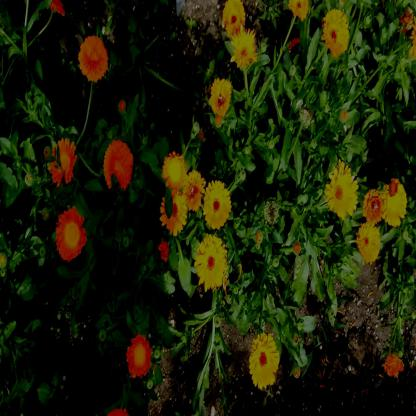marigold: (326, 168, 358, 219), (196, 238, 226, 291), (251, 331, 278, 389), (57, 206, 83, 260), (49, 138, 77, 186), (203, 181, 230, 228), (104, 141, 130, 188), (160, 149, 186, 196), (78, 37, 106, 80), (230, 24, 258, 67), (125, 331, 151, 374), (182, 166, 206, 212), (384, 178, 407, 225), (325, 10, 349, 54), (221, 0, 245, 38), (163, 193, 186, 232), (210, 77, 231, 119), (362, 187, 385, 224), (357, 223, 378, 263), (383, 345, 404, 383), (288, 0, 309, 21)
